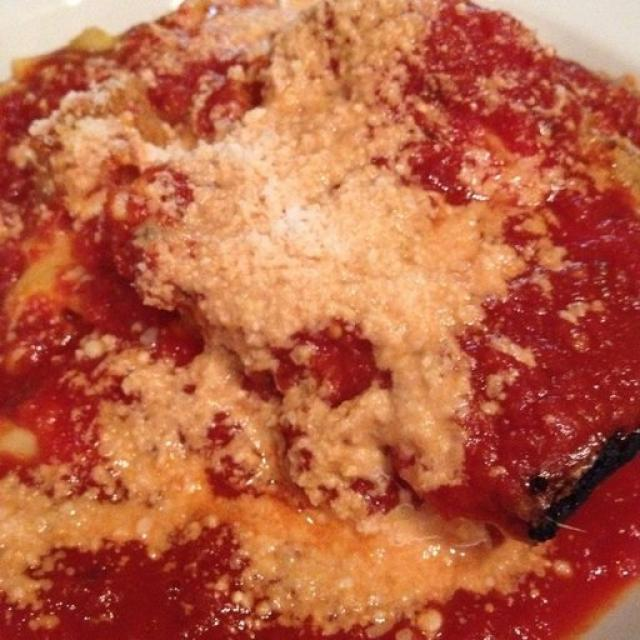Lasagna: (7, 15, 622, 623)
